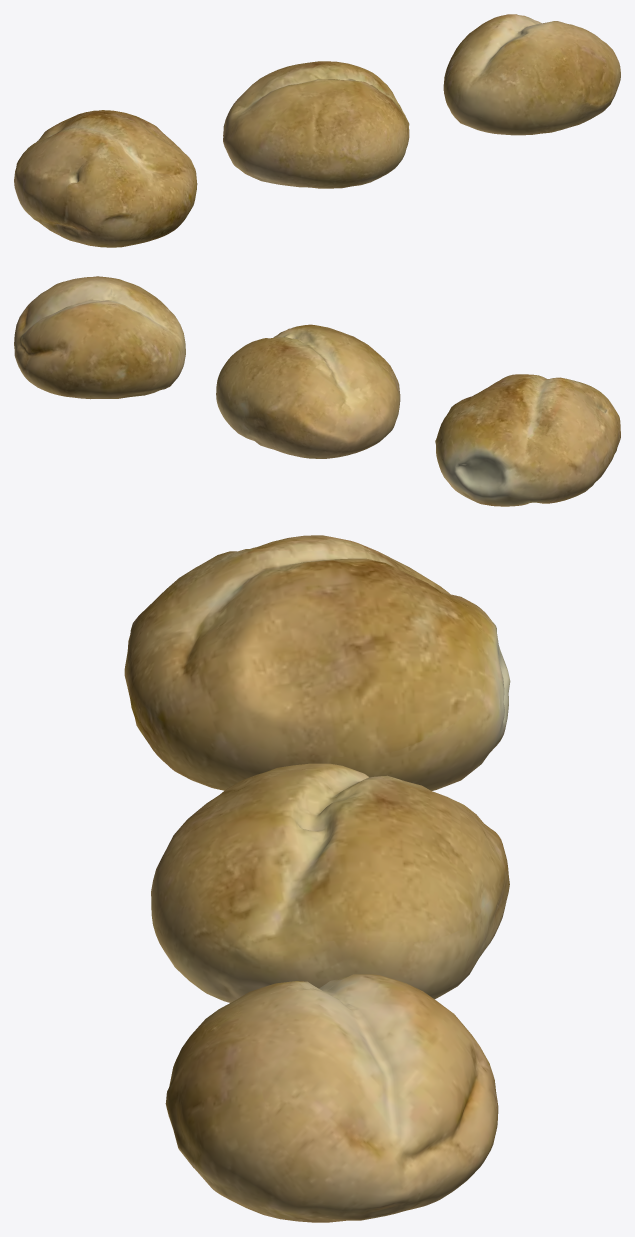
Rendered from hamburger_buns.glb.
The picture shows the model from 3 angles, top to bottom: view 1: azimuth 30°, elevation 25°; view 2: azimuth 150°, elevation 25°; view 3: azimuth 270°, elevation 25°; orthographic projection. The views are drawn at different scales.
Visible parts, largest first — view 1: hamburger_buns_01, hamburger_buns_02, hamburger_buns_03; view 2: hamburger_buns_01, hamburger_buns_02, hamburger_buns_03; view 3: hamburger_buns_01, hamburger_buns_02, hamburger_buns_03.
Part boxes in pixels (x1,y1,x2,y2): hamburger_buns_01: [14, 110, 197, 247]; hamburger_buns_02: [223, 61, 409, 188]; hamburger_buns_03: [443, 14, 620, 135]; hamburger_buns_01: [435, 374, 620, 506]; hamburger_buns_02: [216, 324, 400, 458]; hamburger_buns_03: [14, 276, 185, 399]; hamburger_buns_01: [124, 535, 510, 790]; hamburger_buns_02: [151, 763, 509, 1002]; hamburger_buns_03: [165, 974, 498, 1222].
Size of the model in its own units: 0.3972 by 0.0634 by 0.1138.
Materials: 1 (1 with a texture image).
